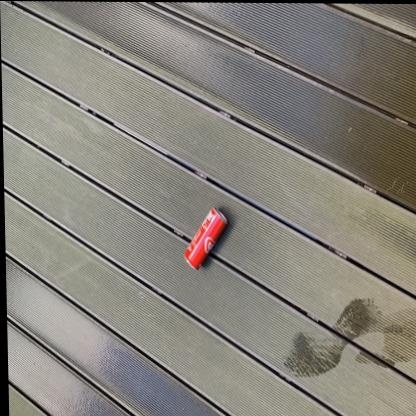trash: (184, 208, 227, 268)
